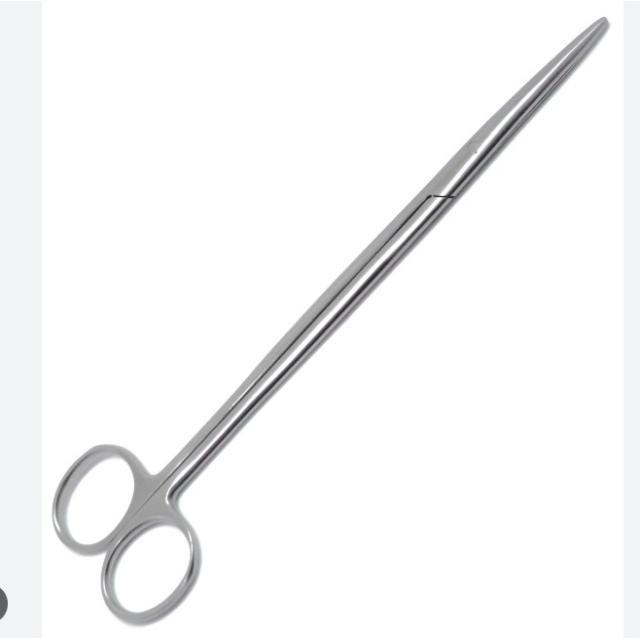Metzenbaum Sciccors: (49, 11, 620, 632)
